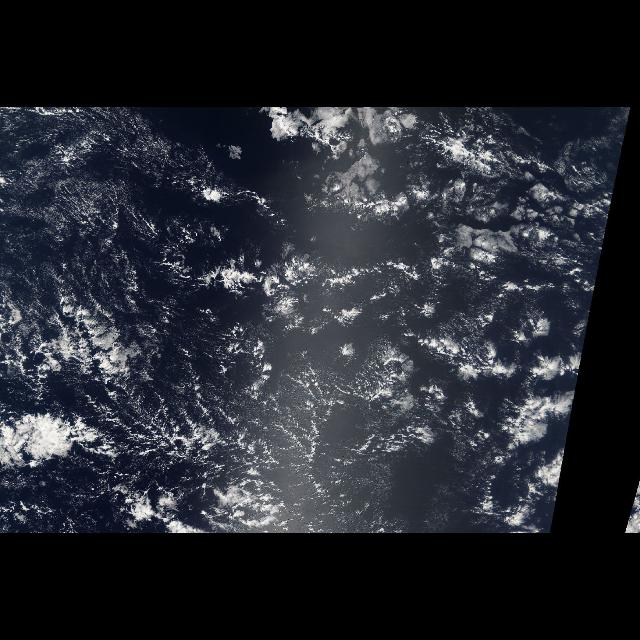Gravel: (65, 231, 498, 523)
Sugar: (0, 111, 266, 307)
